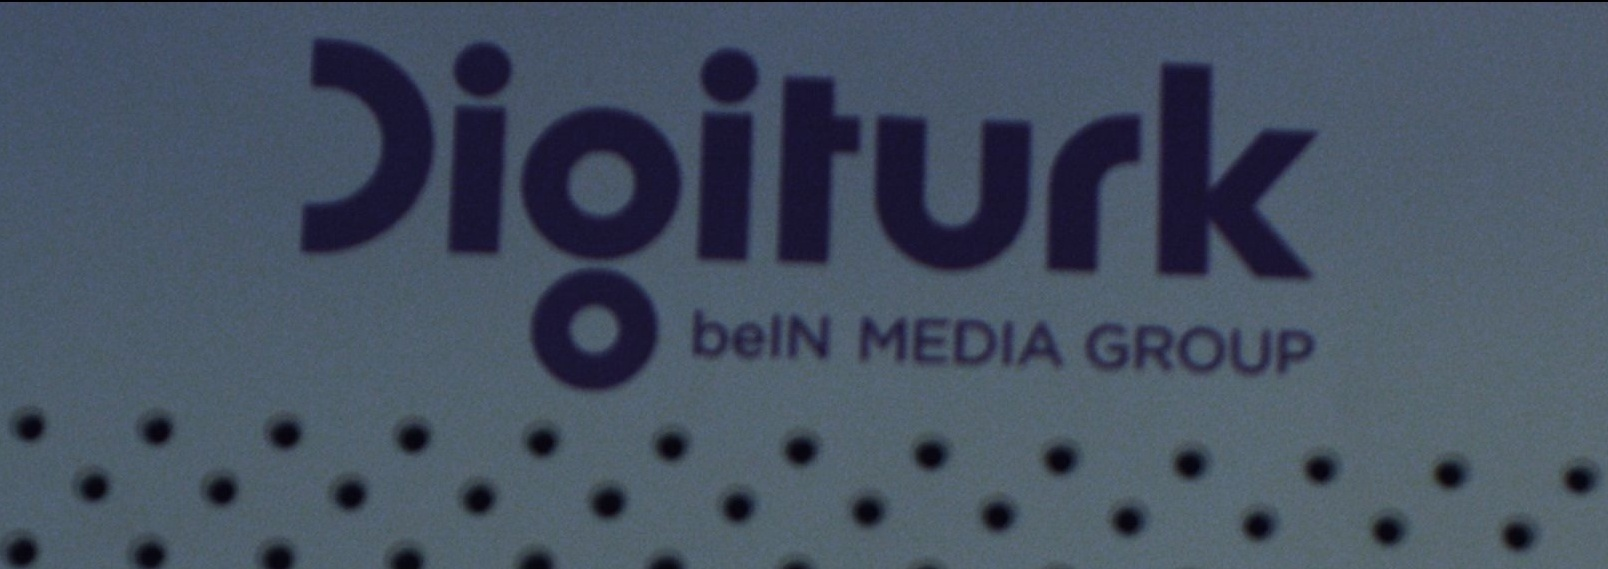BW_H168ADigiturk: (274, 6, 1330, 406)
